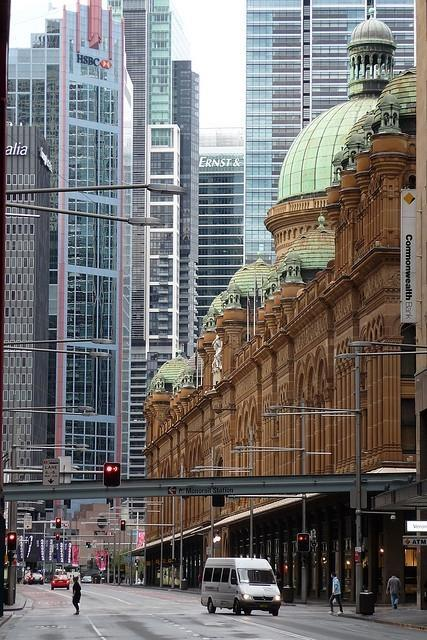car: (50, 574, 70, 590), (28, 572, 44, 584), (81, 576, 94, 584)
truck: (201, 556, 282, 616)
